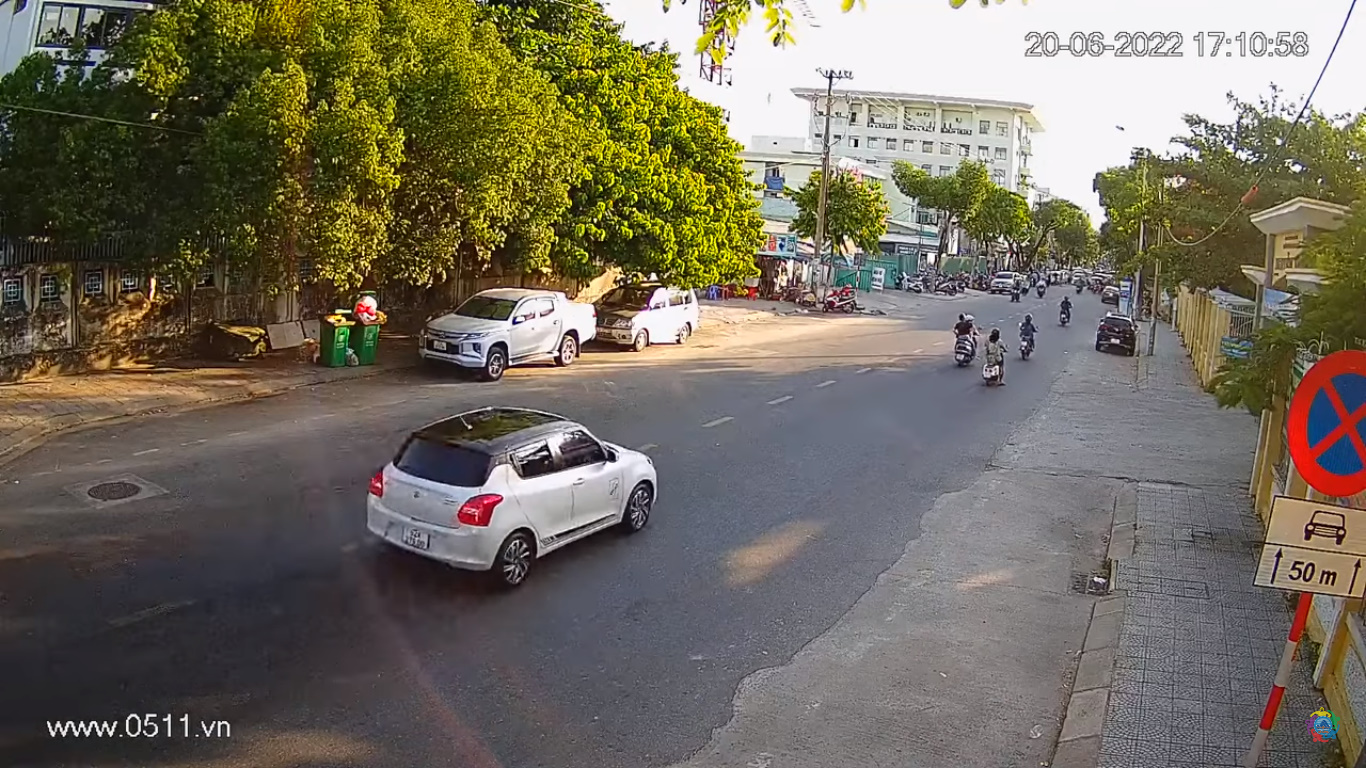car: (360, 405, 662, 589)
